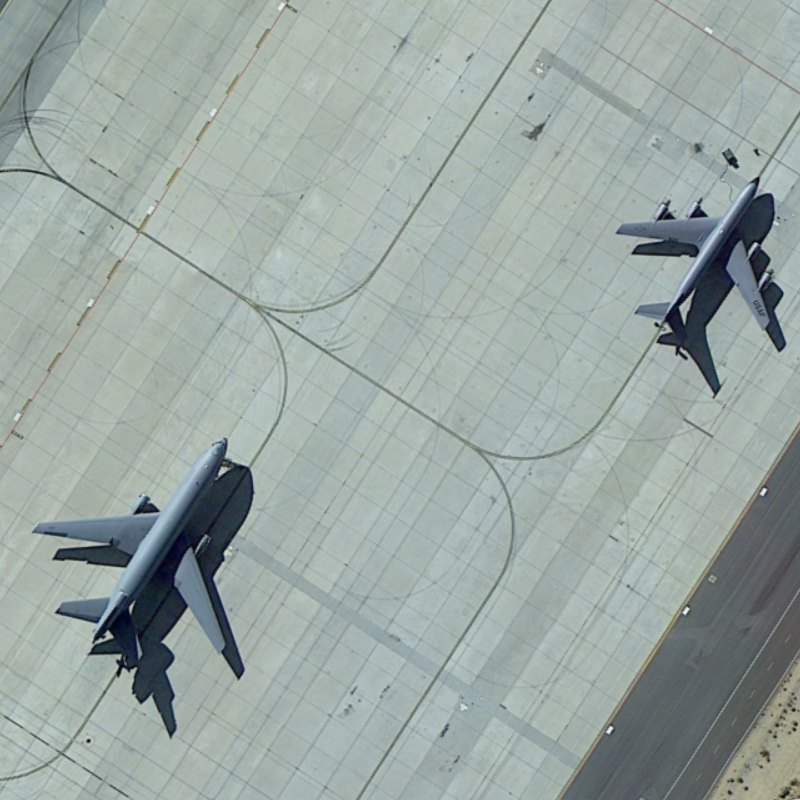A14: (608, 170, 774, 345)
A18: (23, 429, 260, 666)
